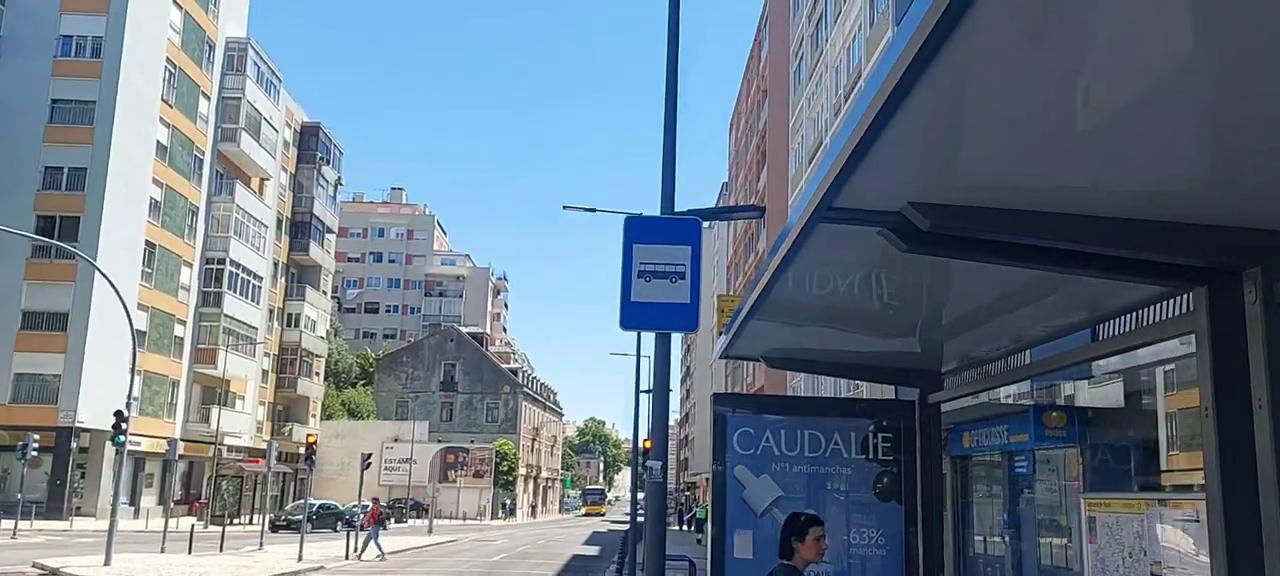paragem de veiculos de transporte colectivo de passageiros: (617, 211, 707, 338)
